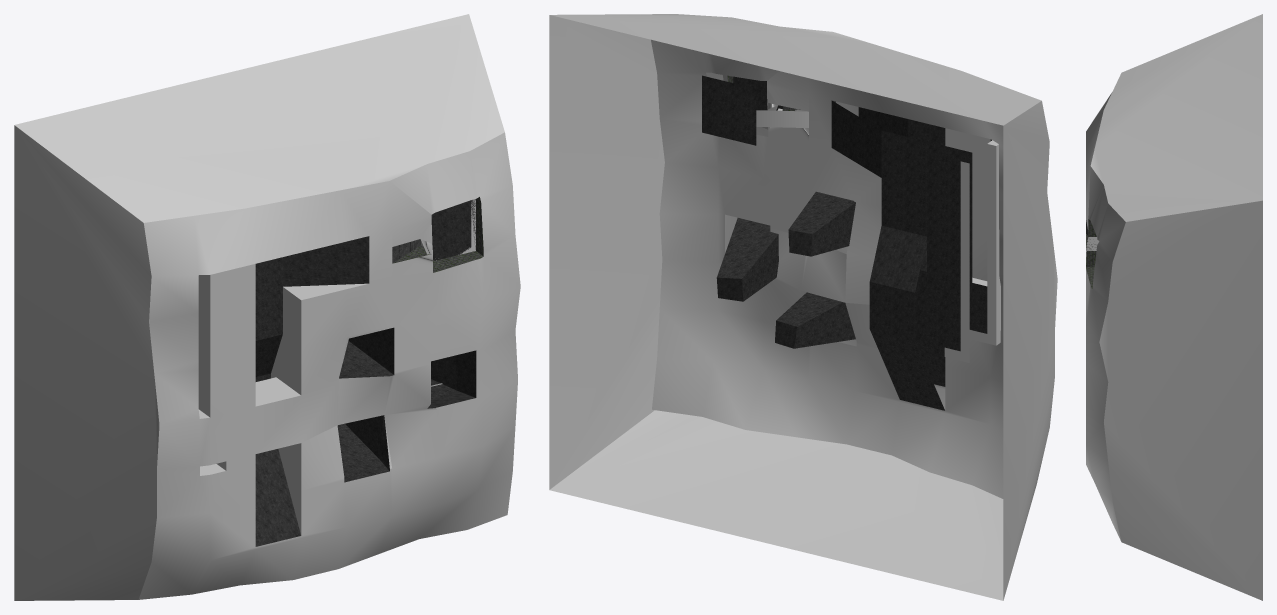
The model's file is worldModel.dae.
The picture shows the model from 3 angles, left to right: view 1: azimuth 30°, elevation 25°; view 2: azimuth 150°, elevation 25°; view 3: azimuth 270°, elevation 25°; orthographic projection. The views are drawn at different scales.
Visible parts, largest first — view 1: Map; view 2: Map, Map.001; view 3: Map.
Part boxes in pixels (<box>): Map: <box>14,14,520,600</box>; Map: <box>549,14,1057,600</box>; Map.001: <box>651,39,1003,498</box>; Map: <box>1086,14,1262,600</box>.
Size of the model in its own units: 1 by 0.4 by 1.
